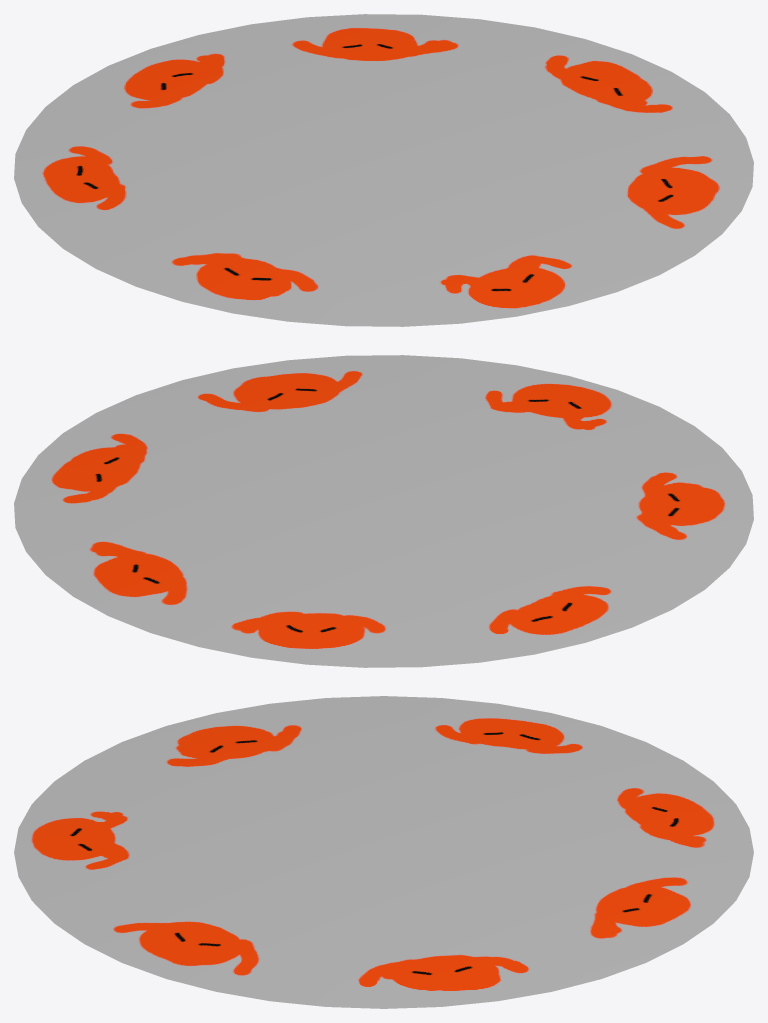
The model's file is BossChaseMark.gltf.
3 renders of one model, top to bottom at view 1: azimuth 30°, elevation 25°; view 2: azimuth 150°, elevation 25°; view 3: azimuth 270°, elevation 25°, orthographic.
Parts seen in each view (by area): view 1: BossSpawnMark; view 2: BossSpawnMark; view 3: BossSpawnMark.
Boxes of the visible parts, bbox=[...] form: BossSpawnMark: bbox=[14, 14, 753, 326]; BossSpawnMark: bbox=[14, 355, 753, 667]; BossSpawnMark: bbox=[14, 696, 753, 1008].
Bounding box in the file's own units: 5.81 × 0.0643 × 5.81.
Materials: 1 (1 with a texture image).
